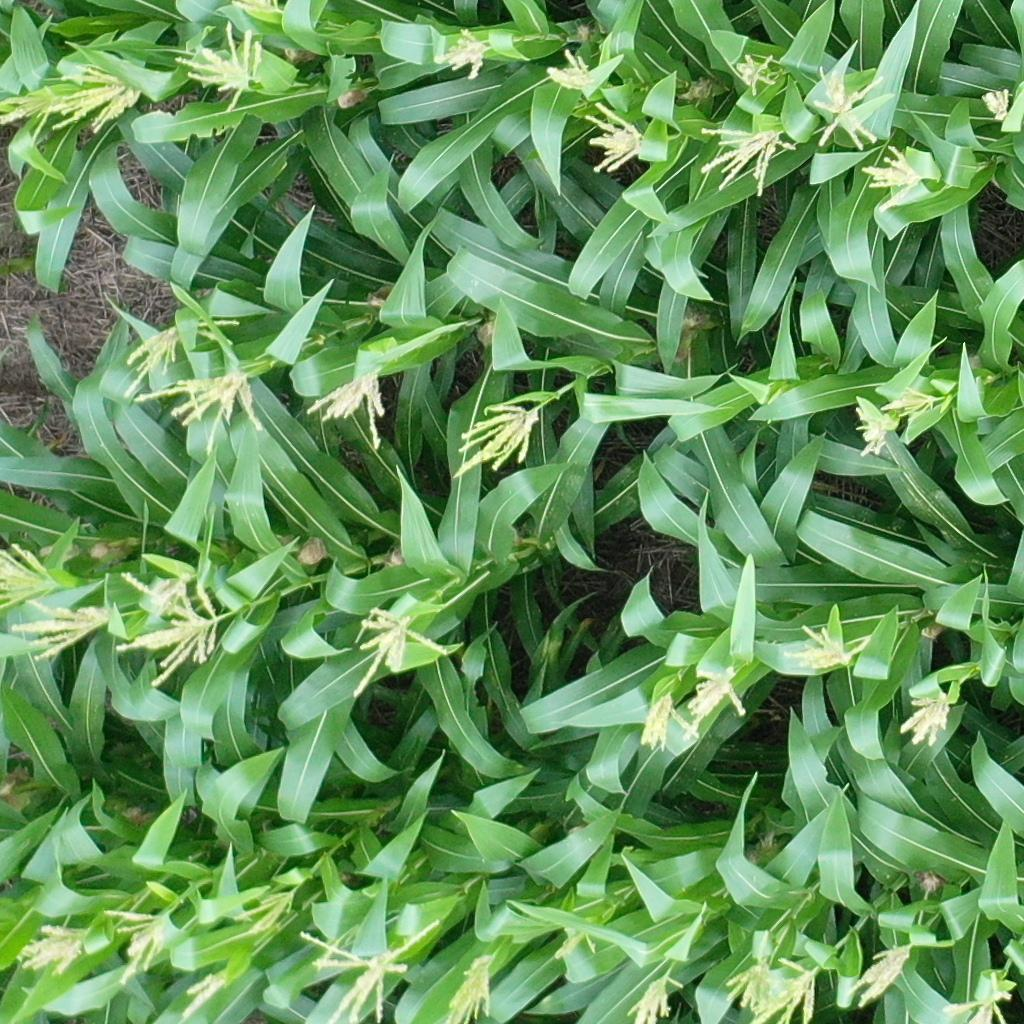Tassel: (297, 910, 442, 1024), (113, 565, 242, 691), (1, 56, 145, 137), (346, 604, 453, 706), (133, 373, 267, 453), (121, 308, 239, 395), (174, 21, 263, 119), (299, 363, 396, 452), (699, 122, 801, 198), (805, 66, 893, 150), (449, 400, 539, 478), (10, 594, 108, 664), (751, 953, 826, 1024), (682, 667, 754, 737), (104, 904, 167, 983), (581, 101, 648, 175), (847, 943, 923, 1008), (784, 621, 873, 675), (860, 146, 928, 216), (15, 922, 90, 978), (1, 538, 58, 611), (945, 967, 1015, 1024), (445, 951, 497, 1024), (232, 888, 300, 940), (429, 27, 495, 80), (642, 692, 700, 752), (628, 968, 685, 1024), (900, 691, 957, 744), (725, 961, 782, 1012), (543, 44, 600, 94), (180, 968, 229, 1020), (733, 50, 786, 95), (854, 416, 897, 461), (881, 387, 937, 420), (555, 924, 600, 965), (975, 85, 1011, 120), (232, 1, 286, 16)
